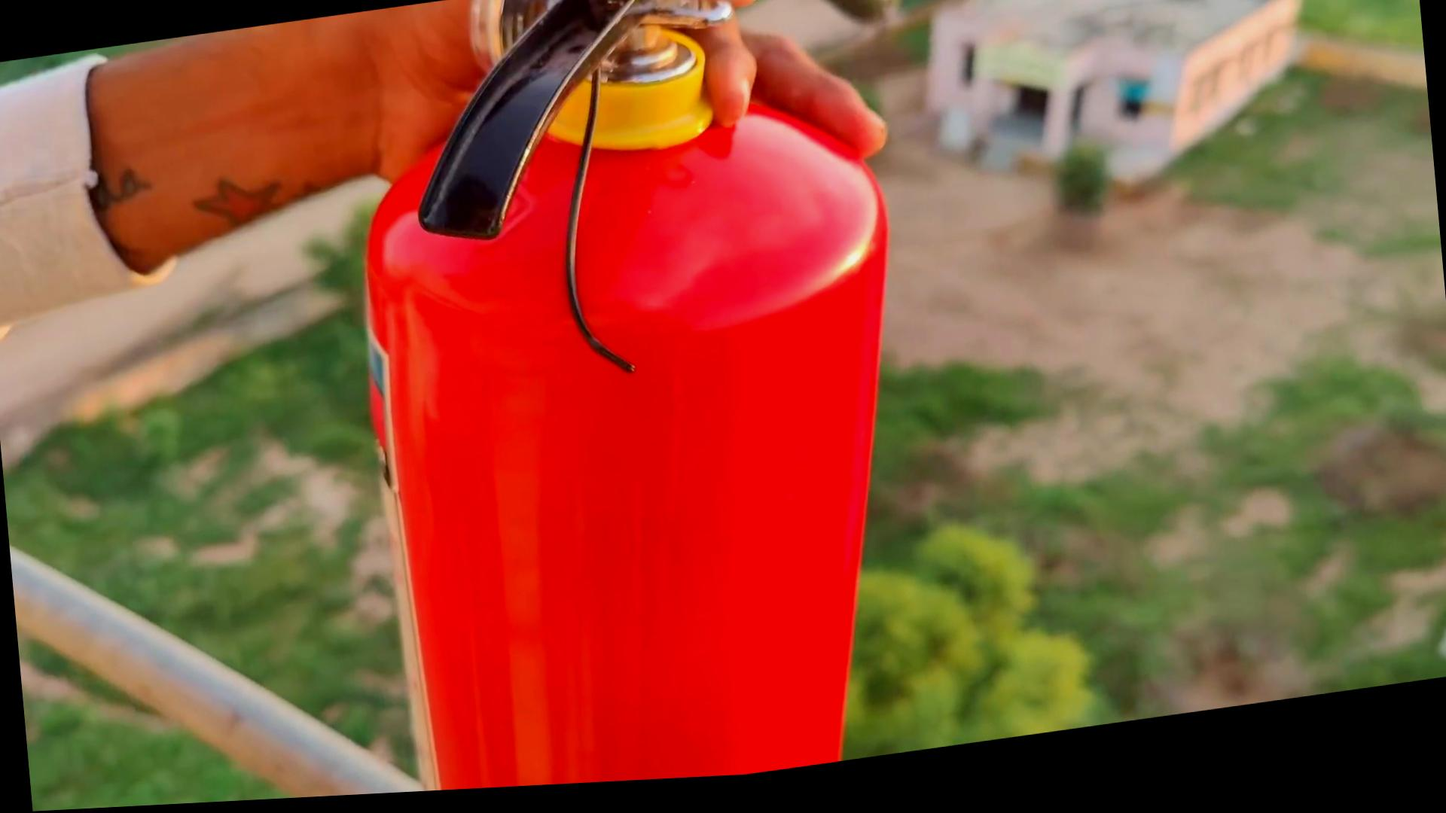FireExtinguisher: (307, 0, 1002, 800)
